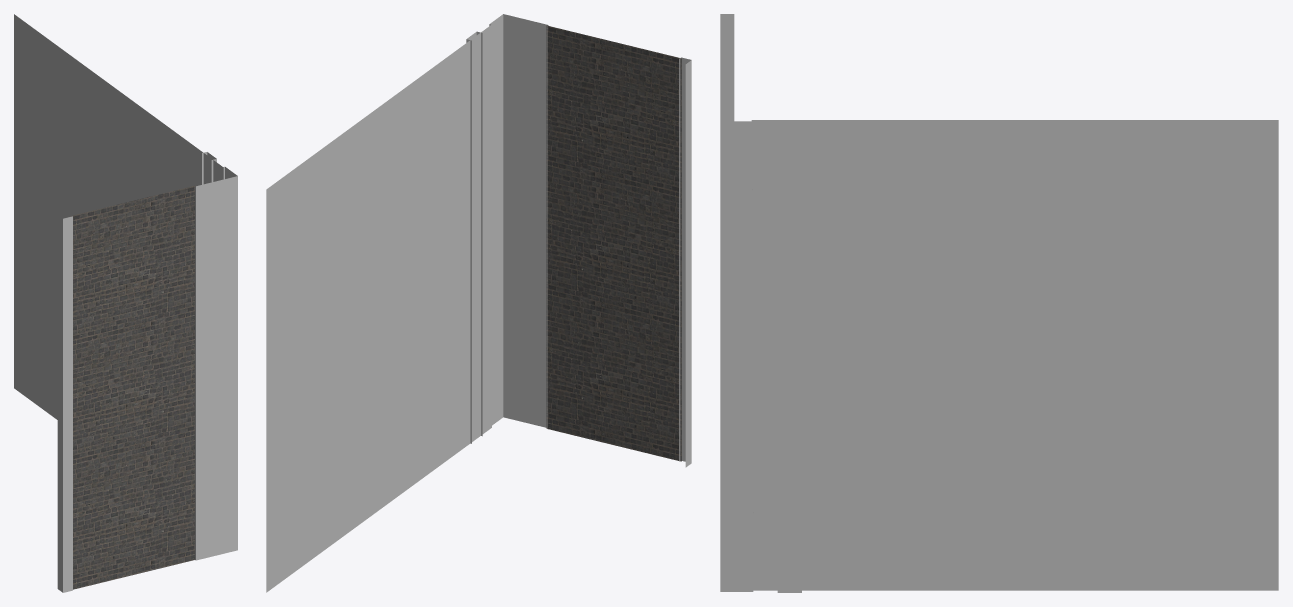
The model's file is env_112_06_WideBridge_ctf4.glb.
The picture shows the model from 3 angles, left to right: view 1: azimuth 30°, elevation 25°; view 2: azimuth 150°, elevation 25°; view 3: azimuth 270°, elevation 25°; orthographic projection. The views are drawn at different scales.
Visible parts, largest first — view 1: set_0_group_0, set_0_group_1; view 2: set_0_group_0, set_0_group_1; view 3: set_0_group_0.
Boxes of the visible parts, x1,y1,x2,y2 form: set_0_group_0: (14, 14, 237, 592); set_0_group_1: (70, 185, 195, 589); set_0_group_0: (266, 14, 691, 592); set_0_group_1: (546, 25, 681, 461); set_0_group_0: (720, 14, 1278, 592).
Size of the model in its own units: 4.97 by 10.06 by 10.81.
2 materials, 1 textured.
